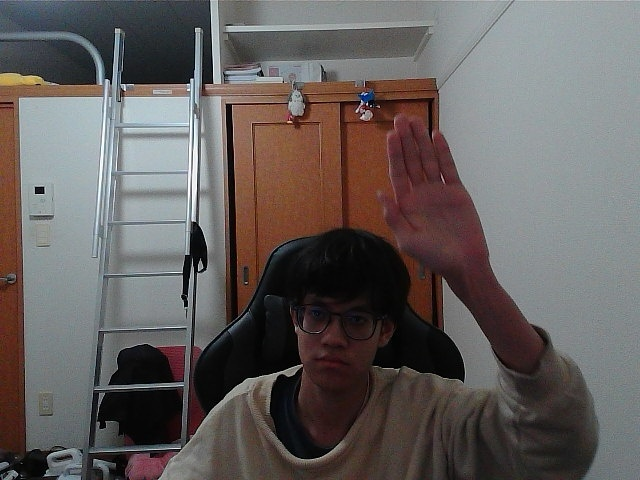open_palm: (386, 122, 463, 260)
